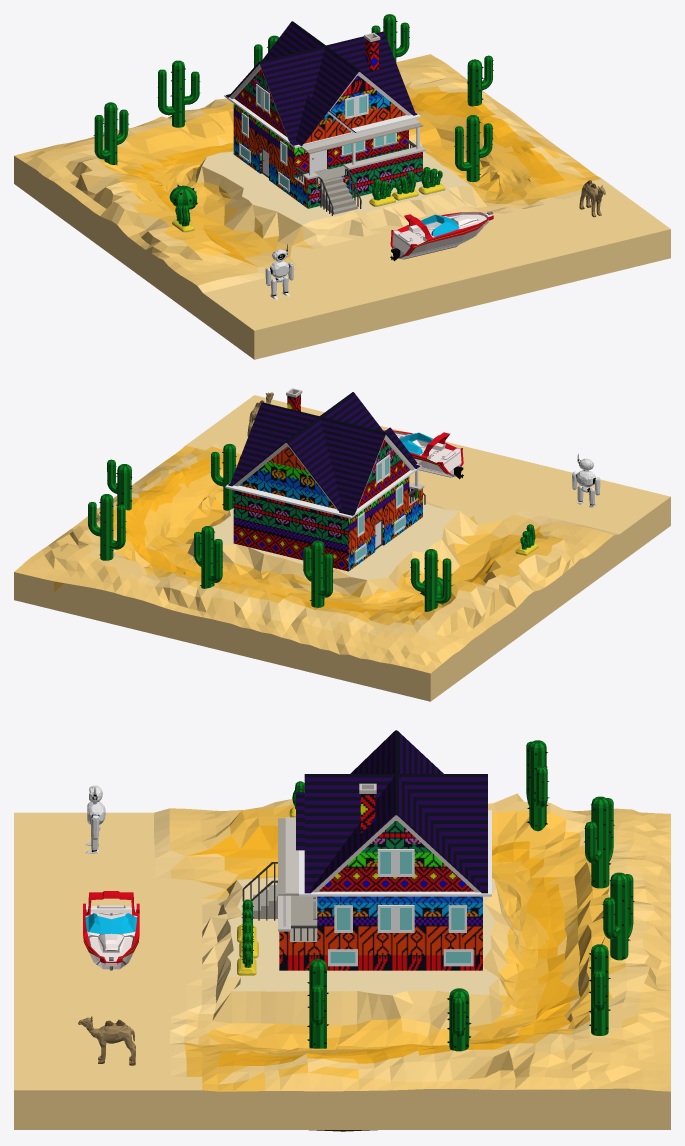
3 renders of one model, top to bottom at view 1: azimuth 30°, elevation 25°; view 2: azimuth 150°, elevation 25°; view 3: azimuth 270°, elevation 25°, orthographic. The views are drawn at different scales.
Parts seen in each view (by area): view 1: Cube.001, Cube.966, VEHICLES_BOAT, Cylinder.037, Cylinder.044, Cylinder.045, Cylinder.038, OBJRANDOM_PLATZEEBOT, Cylinder.042, ANIMAL_CAMELLO, Cylinder.039, Cylinder.041 (+2 smaller); view 2: Cube.001, Cube.966, VEHICLES_BOAT, Cylinder.042, Cylinder.045, Cylinder.044, Cylinder.043, Cylinder.037, Cylinder.038, OBJRANDOM_PLATZEEBOT; view 3: Cube.001, Cube.966, VEHICLES_BOAT, Cylinder.043, Cylinder.044, Cylinder.045, Cylinder.042, Cylinder.037, Cylinder.038, ANIMAL_CAMELLO, OBJRANDOM_PLATZEEBOT, Cylinder.041.
Part boxes in pixels (<box>): Cube.001: <box>14,54,670,359</box>; Cube.966: <box>224,21,425,215</box>; VEHICLES_BOAT: <box>390,211,493,260</box>; Cylinder.037: <box>454,115,493,182</box>; Cylinder.044: <box>157,60,200,127</box>; Cylinder.045: <box>93,102,129,164</box>; Cylinder.038: <box>467,55,493,106</box>; OBJRANDOM_PLATZEEBOT: <box>265,244,293,299</box>; Cylinder.042: <box>371,14,409,62</box>; ANIMAL_CAMELLO: <box>579,180,605,217</box>; Cylinder.039: <box>369,179,395,206</box>; Cylinder.041: <box>418,167,445,194</box>; Cube.001: <box>14,395,670,701</box>; Cube.966: <box>225,388,425,571</box>; VEHICLES_BOAT: <box>383,430,463,479</box>; Cylinder.042: <box>88,494,126,560</box>; Cylinder.045: <box>410,549,452,611</box>; Cylinder.044: <box>303,540,333,607</box>; Cylinder.043: <box>193,526,222,588</box>; Cylinder.037: <box>211,444,240,510</box>; Cylinder.038: <box>107,459,131,510</box>; OBJRANDOM_PLATZEEBOT: <box>572,453,600,507</box>; Cube.001: <box>14,793,670,1129</box>; Cube.966: <box>242,730,491,970</box>; VEHICLES_BOAT: <box>83,891,139,970</box>; Cylinder.043: <box>602,872,634,960</box>; Cylinder.044: <box>584,796,614,888</box>; Cylinder.045: <box>526,740,549,831</box>; Cylinder.042: <box>588,944,610,1035</box>; Cylinder.037: <box>307,959,328,1048</box>; Cylinder.038: <box>447,988,471,1051</box>; ANIMAL_CAMELLO: <box>78,1016,135,1065</box>; OBJRANDOM_PLATZEEBOT: <box>85,785,105,853</box>; Cylinder.041: <box>237,932,256,975</box>.
Size of the model in its own units: 4002 by 1693 by 4001.
36 materials, 6 textured.
